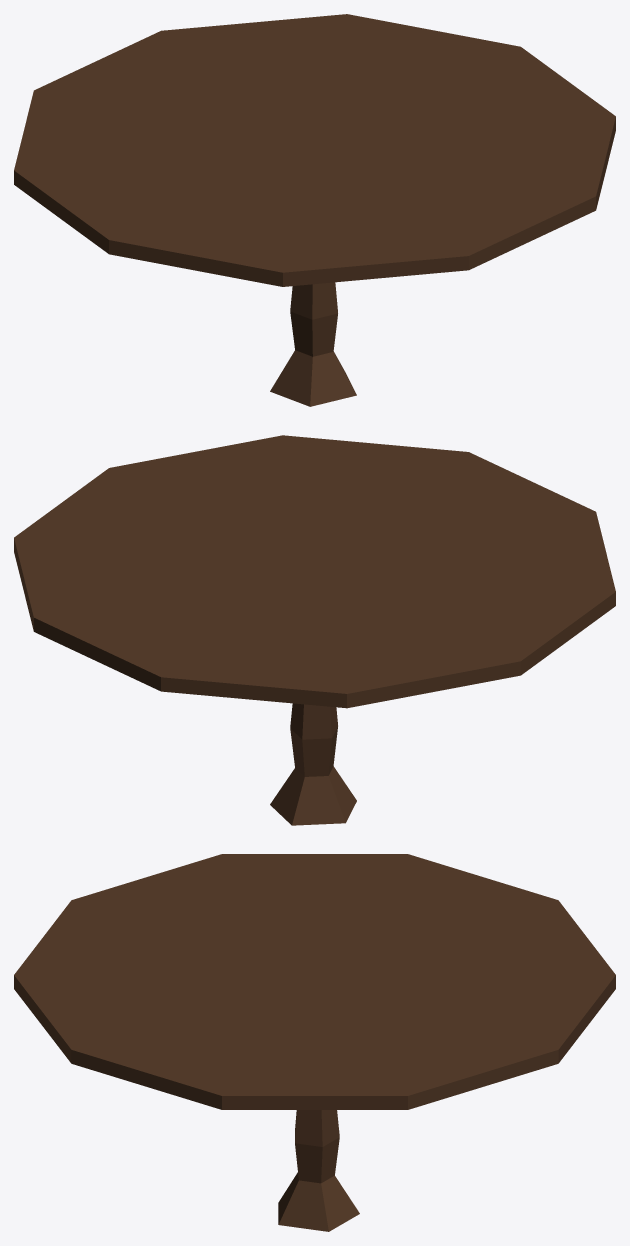
Rendered from WesternTable.glb.
The picture shows the model from 3 angles, top to bottom: view 1: azimuth 30°, elevation 25°; view 2: azimuth 150°, elevation 25°; view 3: azimuth 270°, elevation 25°; orthographic projection. The views are drawn at different scales.
Visible parts, largest first — view 1: WesternTable2; view 2: WesternTable2; view 3: WesternTable2.
Part boxes in pixels (x1=…): WesternTable2: x1=14, y1=14, x2=615, y2=406; WesternTable2: x1=14, y1=435, x2=615, y2=825; WesternTable2: x1=14, y1=854, x2=615, y2=1231.
Size of the model in its own units: 2.69 by 1.24 by 2.83.
Materials: 1 (1 with a texture image).
